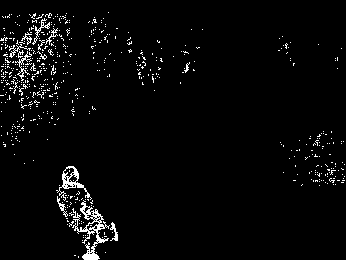person: (53, 163, 118, 260)
